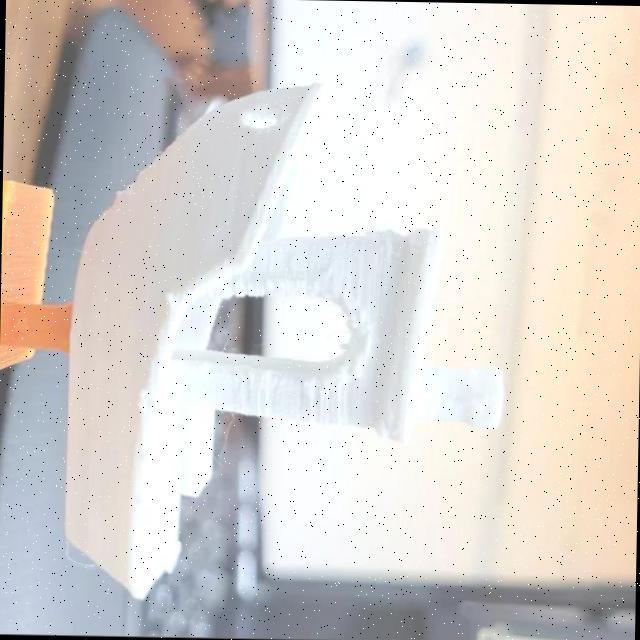blobs: (130, 386, 154, 419), (158, 289, 176, 312)
